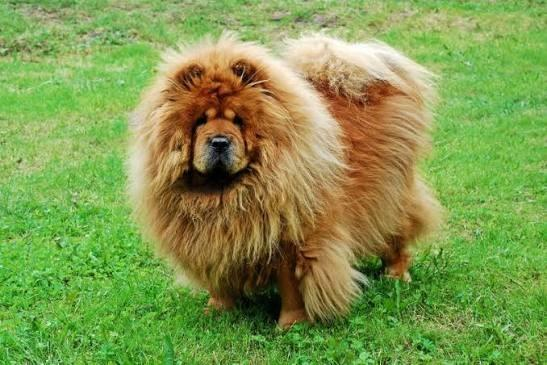adult_dog: (127, 32, 445, 330)
